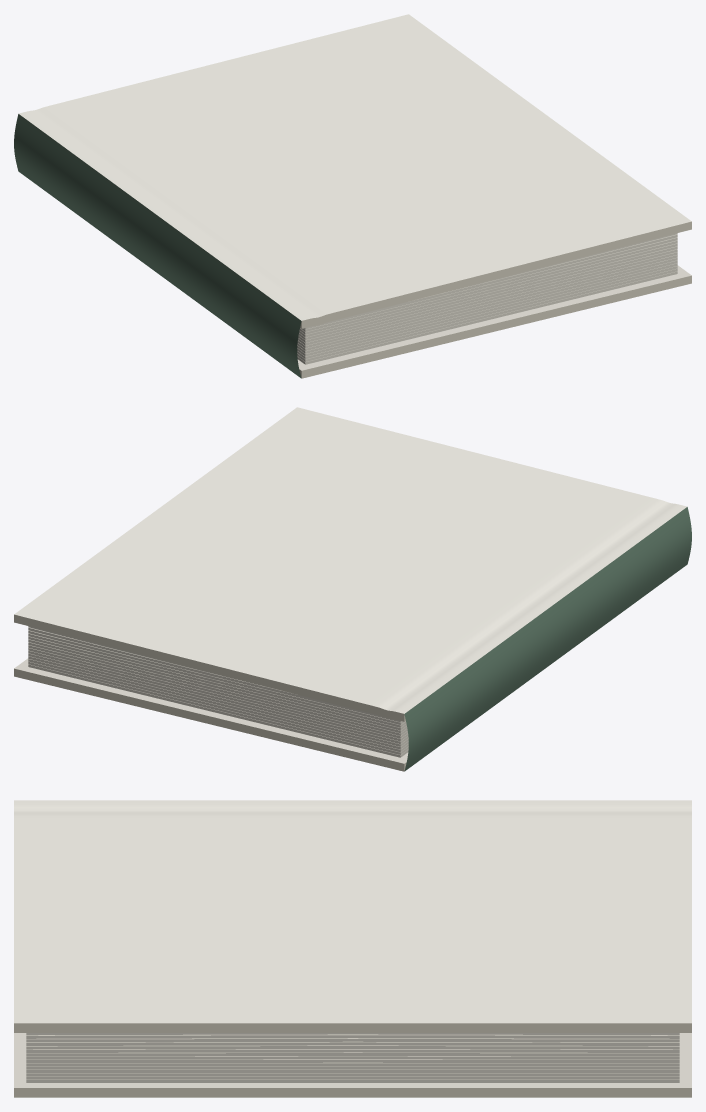
Rendered from hard-60.glb.
3 renders of one model, top to bottom at view 1: azimuth 30°, elevation 25°; view 2: azimuth 150°, elevation 25°; view 3: azimuth 270°, elevation 25°, orthographic. The views are drawn at different scales.
Parts seen in each view (by area): view 1: FrontCover, Spine, PaperBlock, BackCover; view 2: FrontCover, Spine, PaperBlock, BackCover; view 3: FrontCover, PaperBlock, BackCover.
Boxes of the visible parts, left/top/right/bottom form: FrontCover: left=19, top=14, right=691, bottom=328; Spine: left=14, top=114, right=301, bottom=378; PaperBlock: left=297, top=233, right=677, bottom=364; BackCover: left=297, top=265, right=691, bottom=378; FrontCover: left=14, top=407, right=686, bottom=721; Spine: left=404, top=507, right=691, bottom=771; PaperBlock: left=28, top=626, right=408, bottom=757; BackCover: left=14, top=658, right=408, bottom=771; FrontCover: left=14, top=800, right=691, bottom=1032; PaperBlock: left=26, top=1033, right=679, bottom=1082; BackCover: left=14, top=1033, right=691, bottom=1097.
Size of the model in its own units: 1.97 by 0.296 by 2.45.
